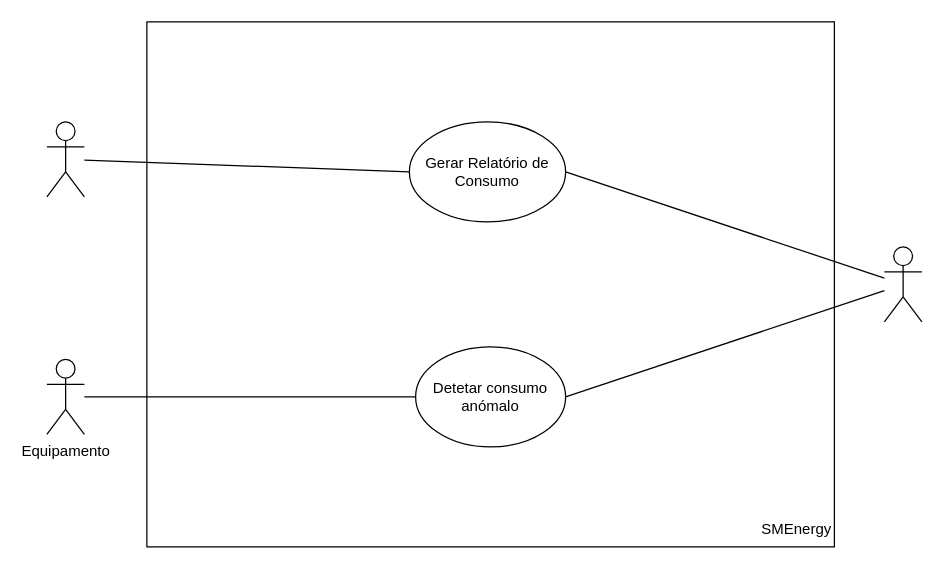
Some shapes in this 951 by 570 pixel diagram are drawn without their labels. The shapes that lost their labels are listed below. From the top down, each one's centre as x and y in pixels, then its label:
the point at 65,159: Utilizador
the point at 902,284: Sistema
